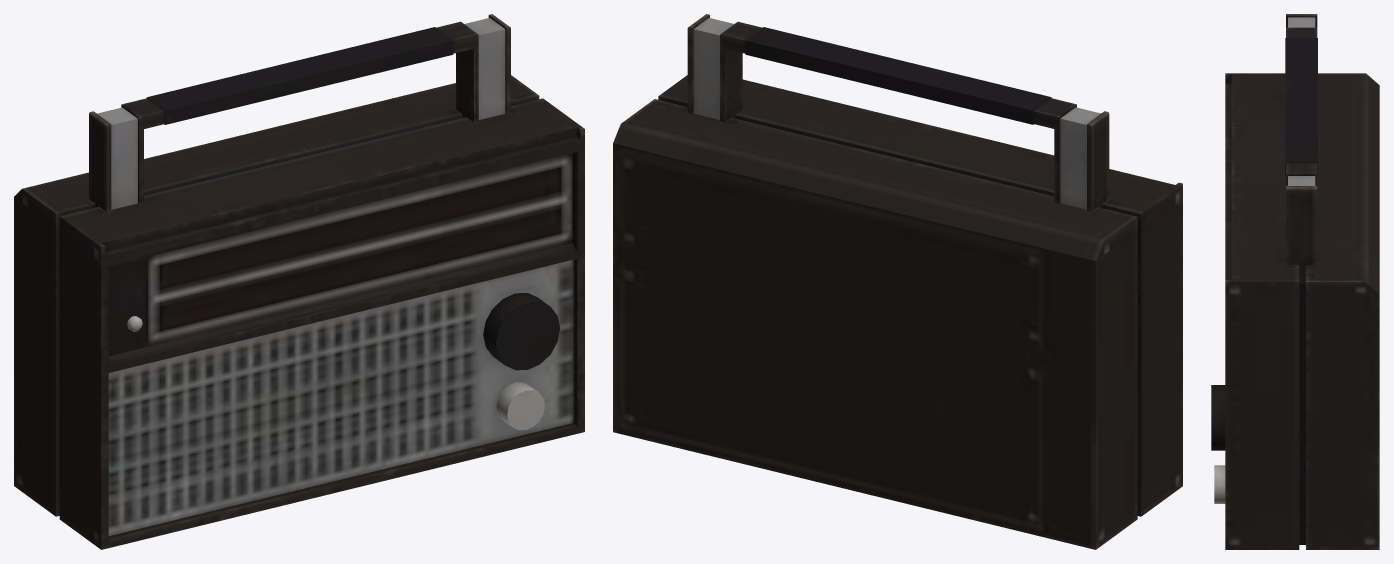
The model's file is SM_Radio_02_0a52a0.glb.
3 views of the same model, side by side, from view 1: azimuth 30°, elevation 25°; view 2: azimuth 150°, elevation 25°; view 3: azimuth 270°, elevation 25° (orthographic). The views are drawn at different scales.
Size of the model in its own units: 0.4583 by 0.3537 by 0.1565.
Materials: 1 (1 with a texture image).
